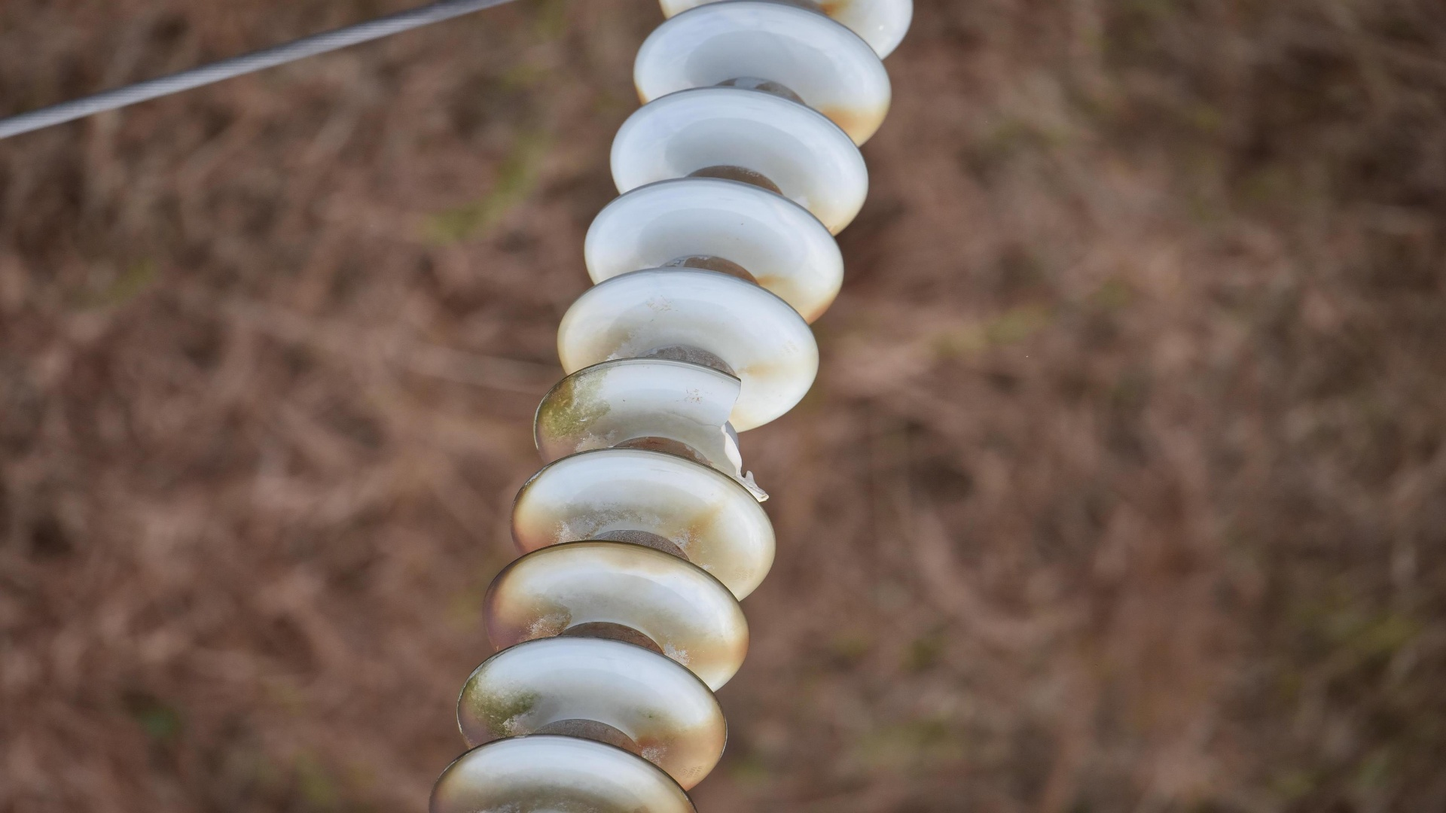insulator: (416, 1, 920, 813)
insulator_breakage: (708, 371, 774, 505)
